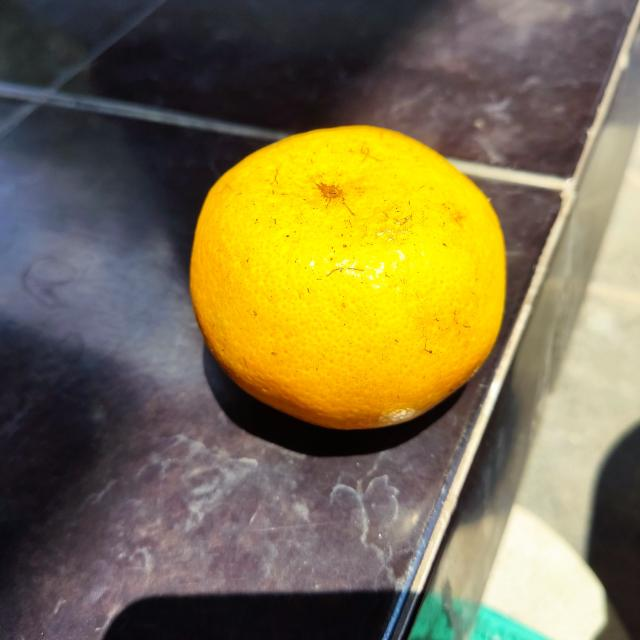orange: (187, 119, 512, 430)
